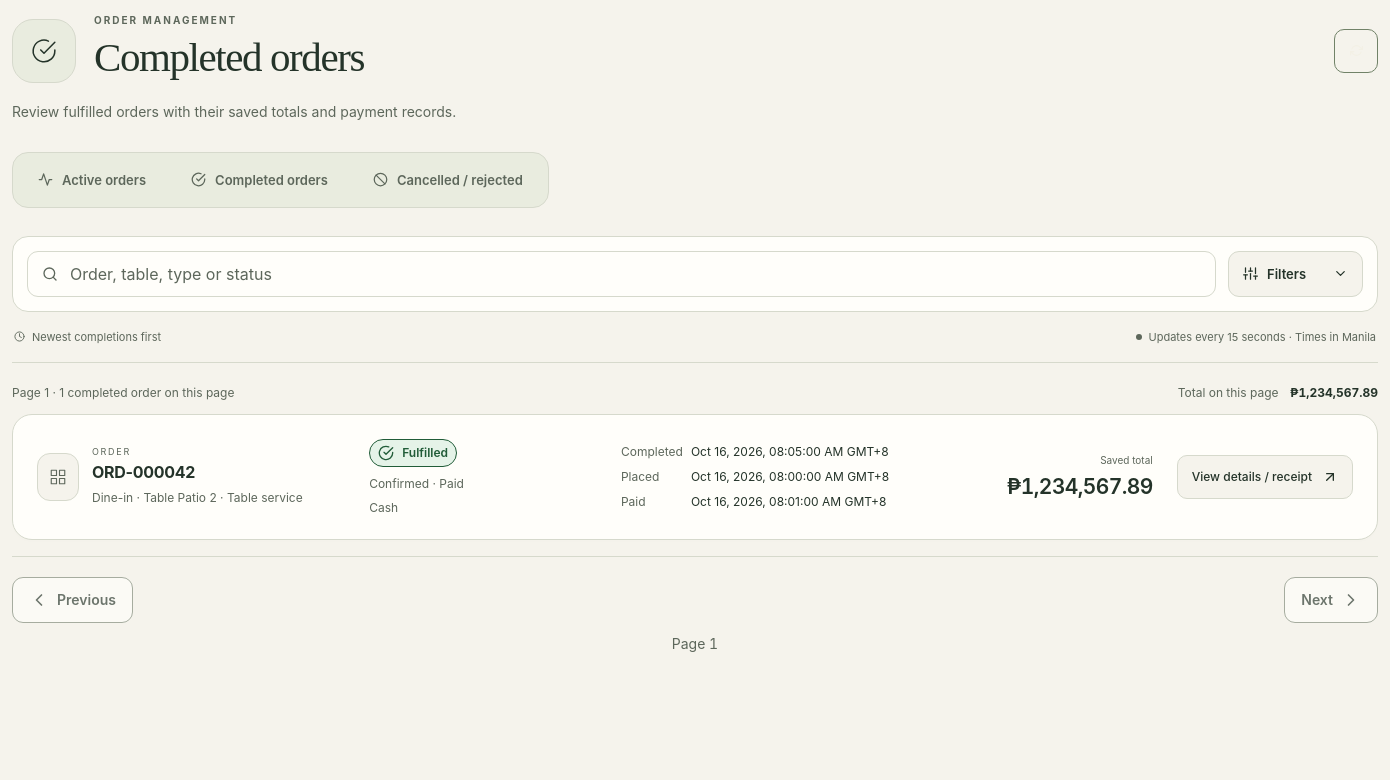
withholds history after access revocation
Expected: the heading "ORD-000042" is shown, [92,462,195,482]
Click the button named "Refresh" at (1356, 51), box [1334,29,1378,73]
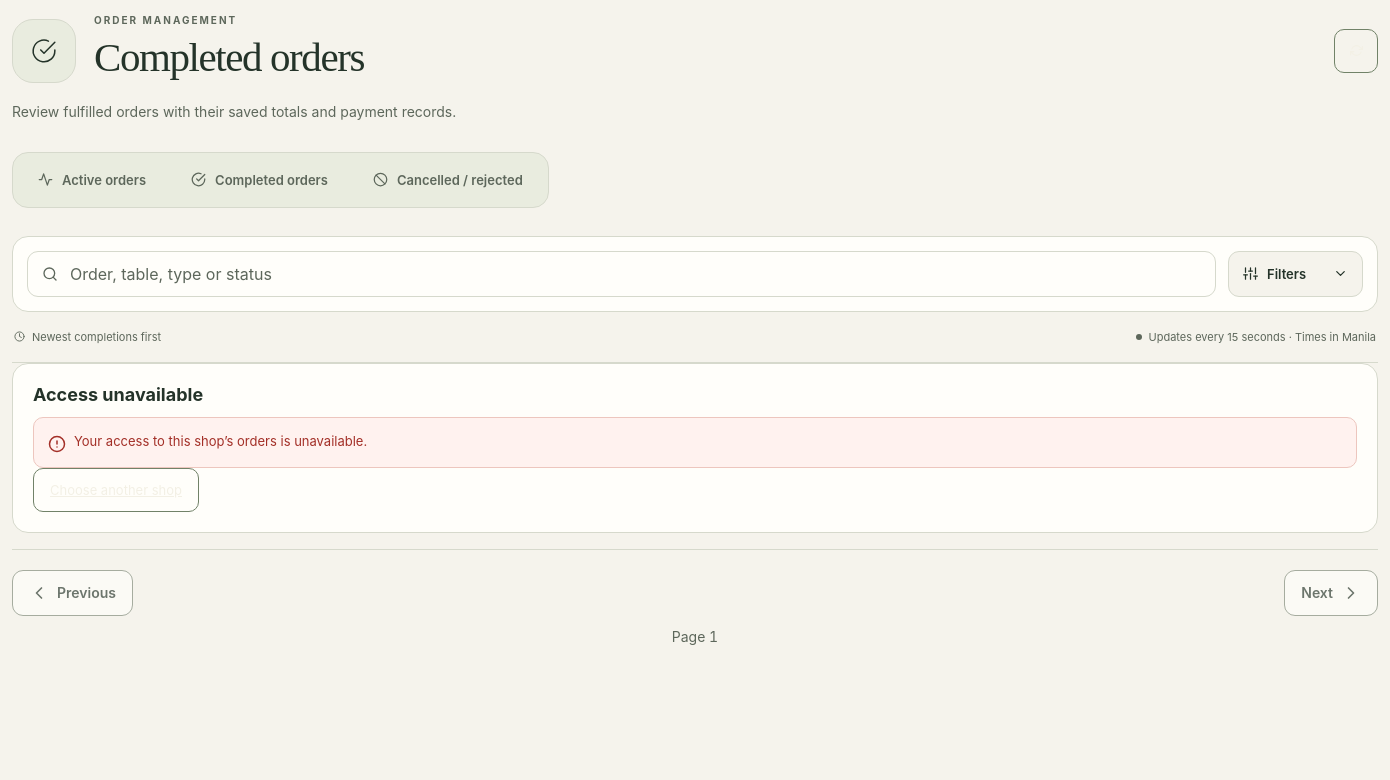
Now the message "Your access to this shop’s orders is unavailable." is shown, box [33,417,1357,468]
Now the heading "ORD-000042" is gone
